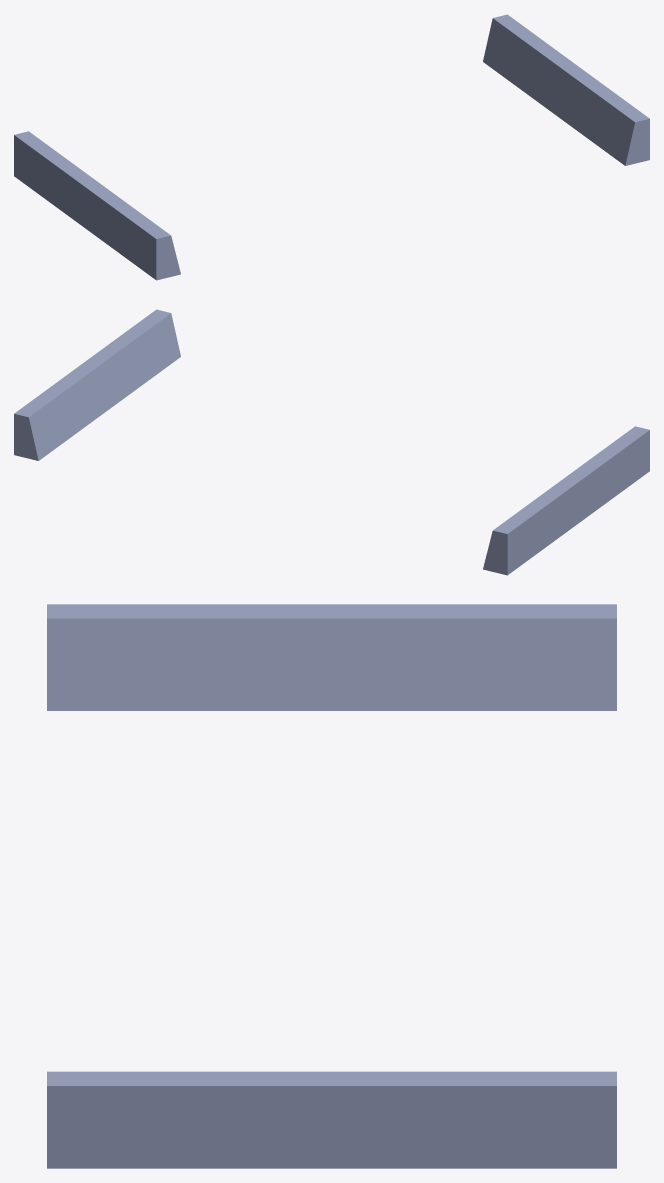
Rendered from road-straight-barrier-half.glb.
3 views of the same model, one above another, from view 1: azimuth 30°, elevation 25°; view 2: azimuth 150°, elevation 25°; view 3: azimuth 270°, elevation 25° (orthographic). The views are drawn at different scales.
Visible parts, largest first — view 1: road-straight-barrier-half; view 2: road-straight-barrier-half; view 3: road-straight-barrier-half.
Part boxes in pixels (x1=…): road-straight-barrier-half: x1=14, y1=14, x2=649, y2=280; road-straight-barrier-half: x1=14, y1=309, x2=649, y2=575; road-straight-barrier-half: x1=47, y1=604, x2=616, y2=1168.
Bounding box in the file's own units: 1 × 0.08 × 0.5.
Materials: 1 (1 with a texture image).
